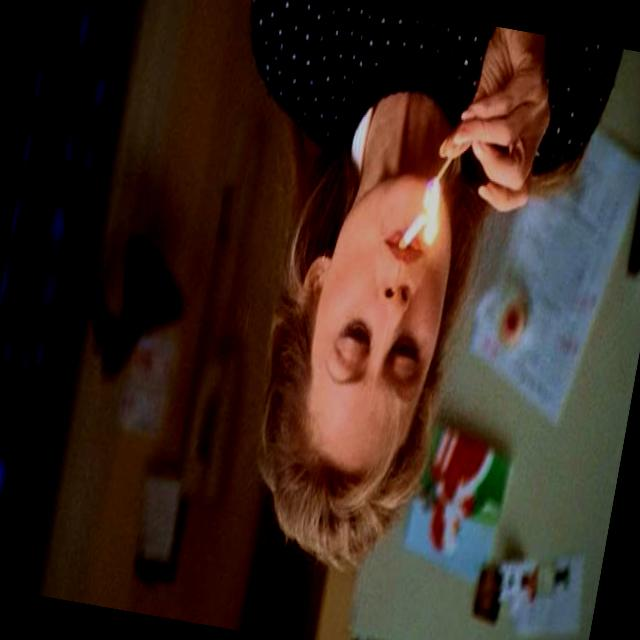smoke: (392, 190, 440, 260)
